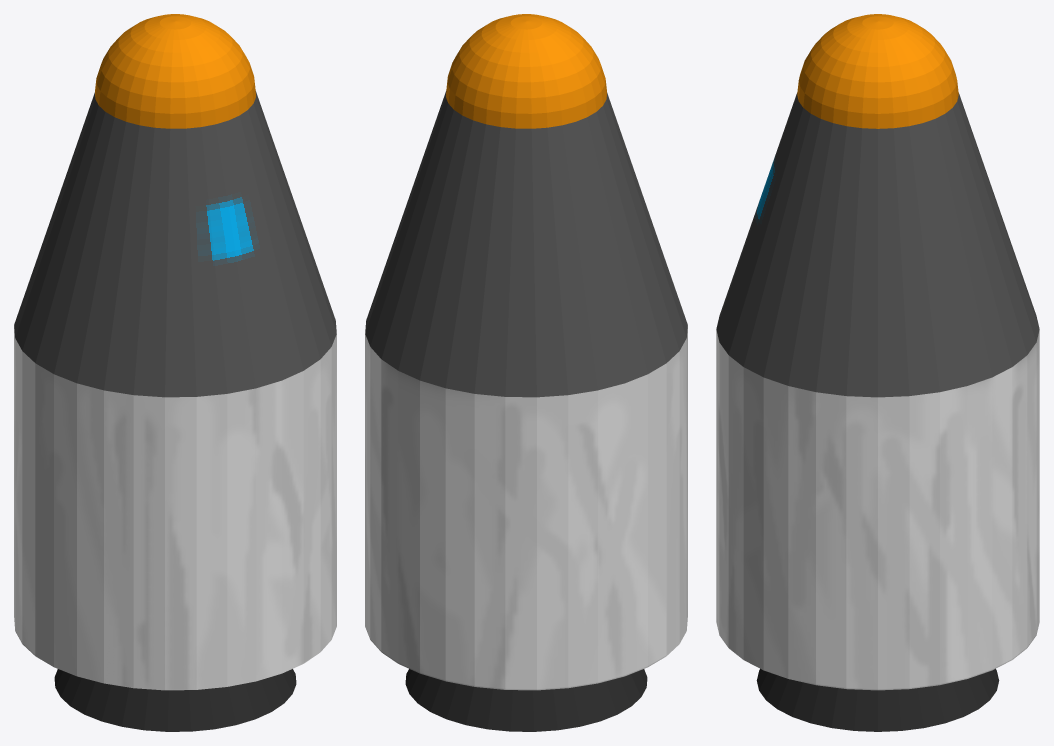
File: CMD-1.dae
3 renders of one model, left to right at view 1: azimuth 30°, elevation 25°; view 2: azimuth 150°, elevation 25°; view 3: azimuth 270°, elevation 25°, orthographic.
Parts seen in each view (by area): view 1: SFB-1, CMD-1, Parachute; view 2: SFB-1, CMD-1, Parachute; view 3: SFB-1, CMD-1, Parachute.
Part boxes in pixels (box(x1,y1,x2,y2)): SFB-1: box(14, 325, 336, 731); CMD-1: box(14, 91, 336, 397); Parachute: box(95, 14, 255, 128); SFB-1: box(365, 325, 687, 731); CMD-1: box(365, 91, 687, 397); Parachute: box(446, 14, 606, 128); SFB-1: box(716, 330, 1039, 731); CMD-1: box(716, 93, 1039, 397); Parachute: box(797, 14, 958, 128).
Bounding box in the file's own units: 1.25 × 2.81 × 1.25.
3 materials, 3 textured.
